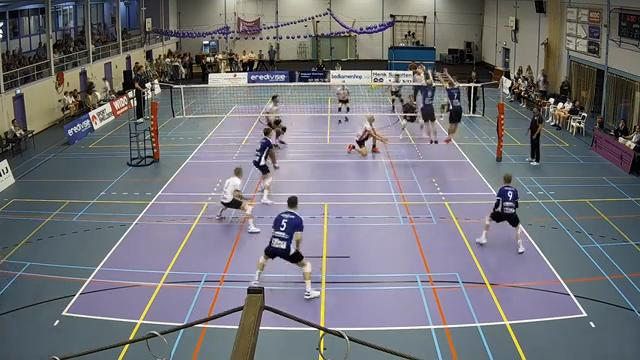muro: (433, 64, 462, 146), (414, 66, 441, 143)
